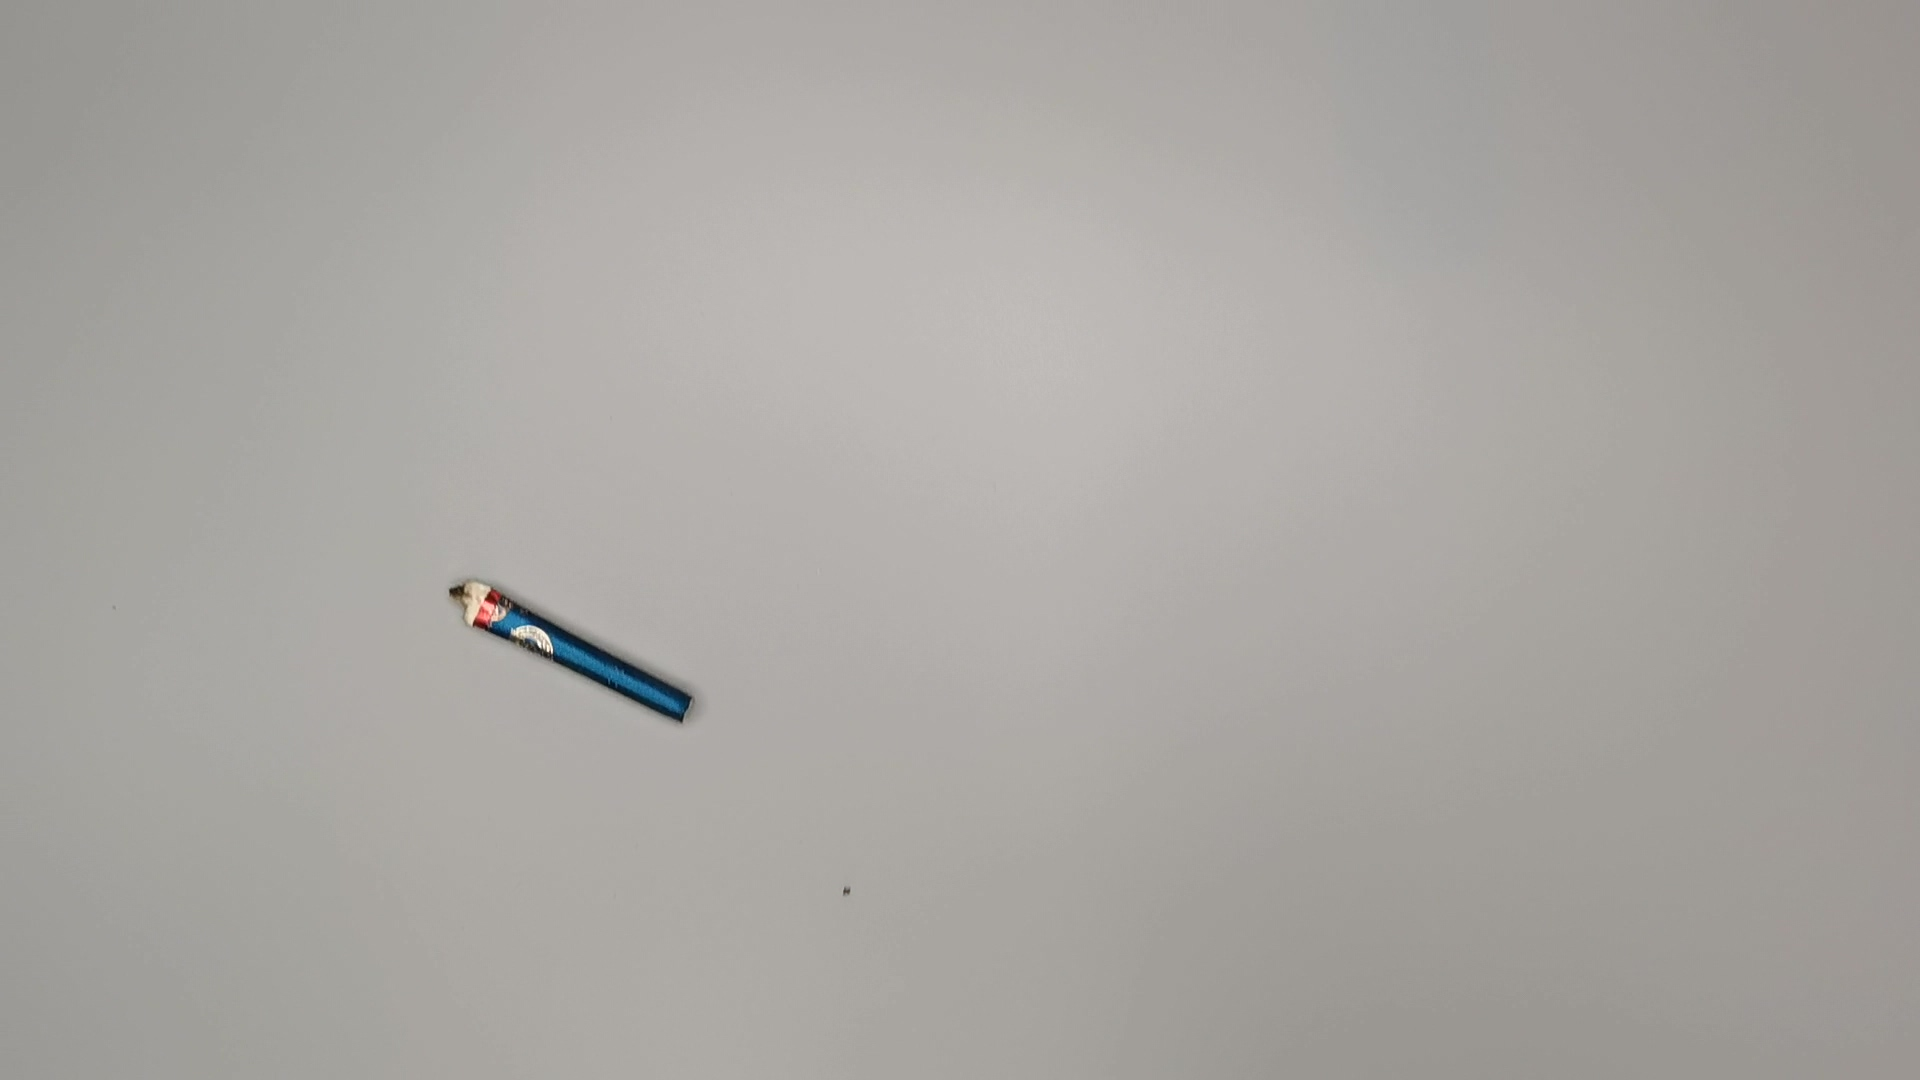cigarette: (451, 572, 702, 738)
